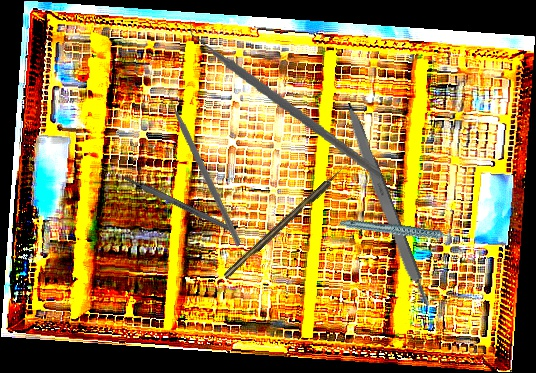Chopper: (177, 11, 394, 180), (117, 79, 296, 248)
Handpiece: (339, 194, 461, 269)
Hook Surgical: (222, 163, 350, 280)
Scalpel Handle: (339, 101, 433, 310), (121, 173, 236, 235)
